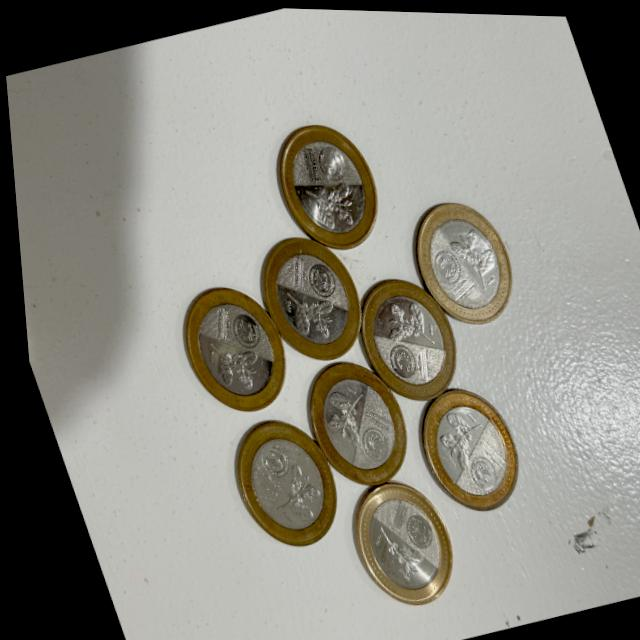20_New_Back: (437, 210, 517, 302), (188, 318, 262, 401), (371, 282, 442, 363)
